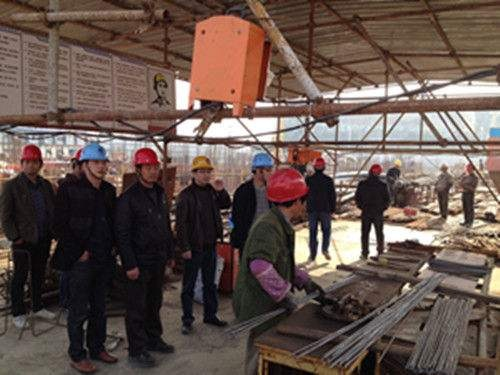blue: (80, 144, 109, 179), (251, 154, 273, 182)
red: (266, 168, 311, 221), (133, 147, 160, 184), (17, 143, 45, 178), (314, 156, 326, 173), (368, 164, 382, 177)
yellow: (189, 155, 214, 187)
